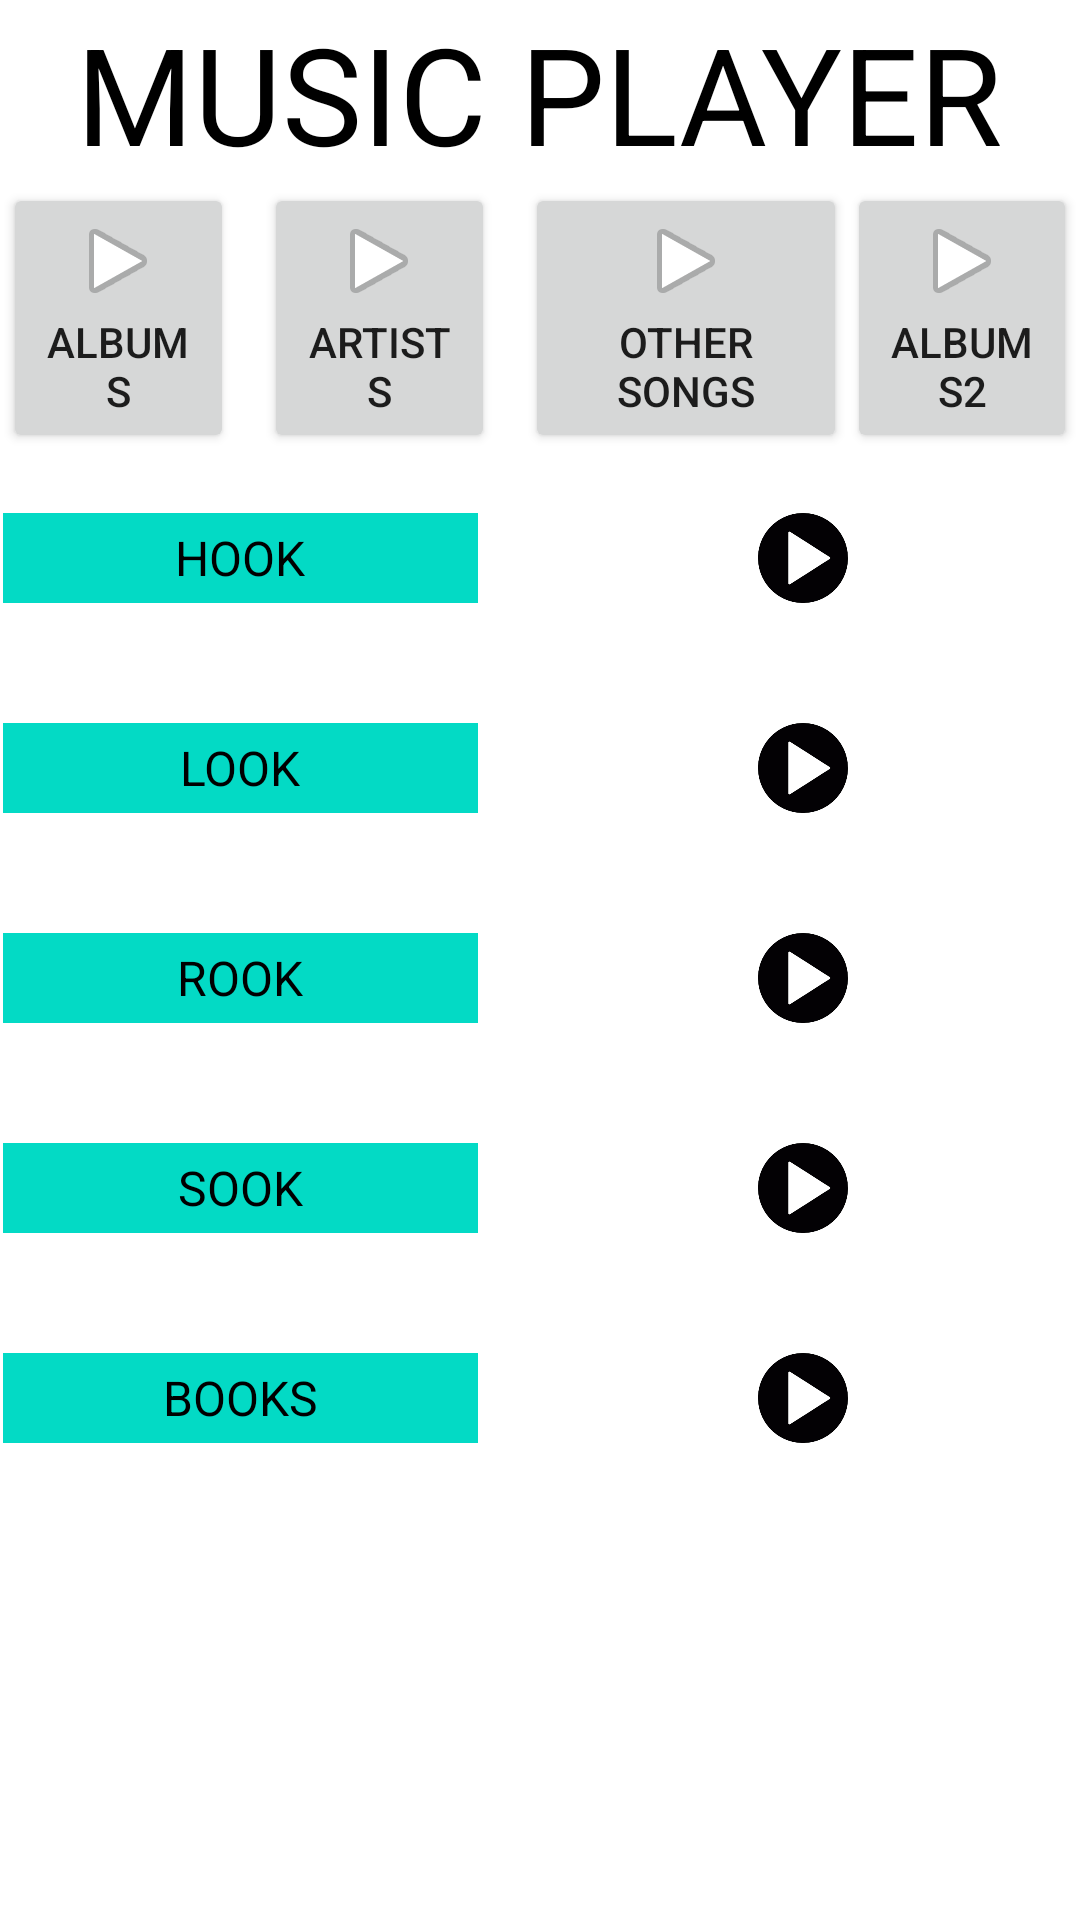

Icons on this 1080 x 1920 Android screen, each with its box as (x1, y1, x2, y2):
play: (758, 513, 848, 603), (758, 723, 848, 813), (758, 933, 848, 1023), (758, 1143, 848, 1233), (758, 1353, 848, 1443)
